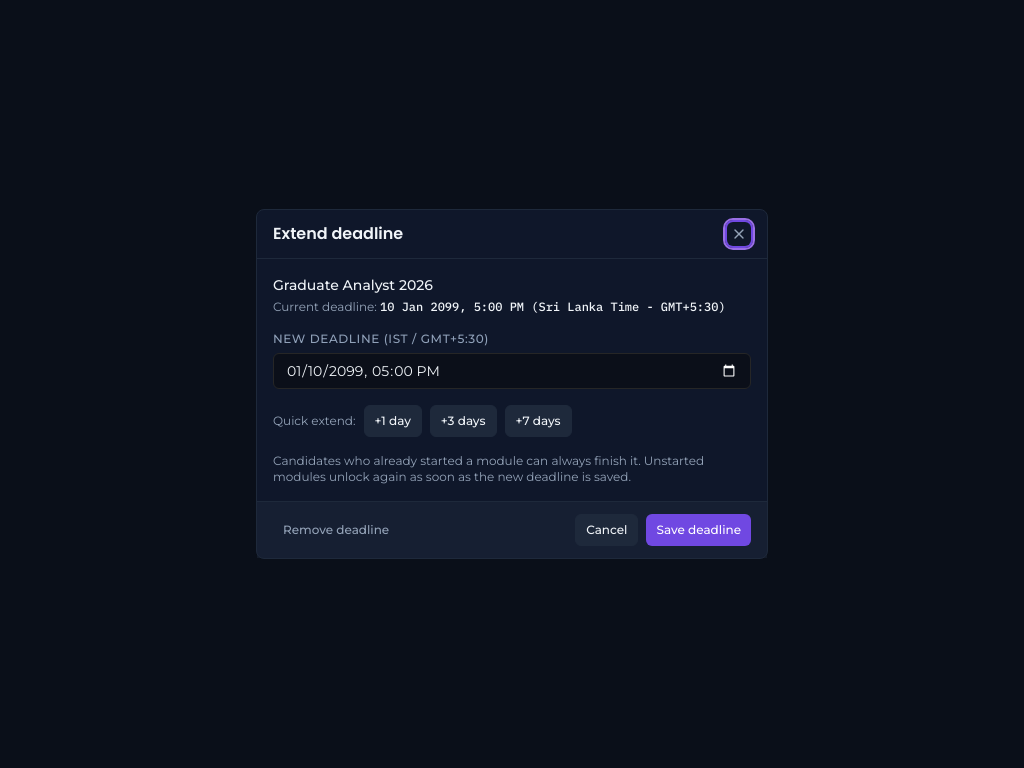
ExtendDeadlineModal › surfaces server errors and keeps the dialog usable
Click the button "+3 days".
click(463, 421)  # box [430,405,497,437]
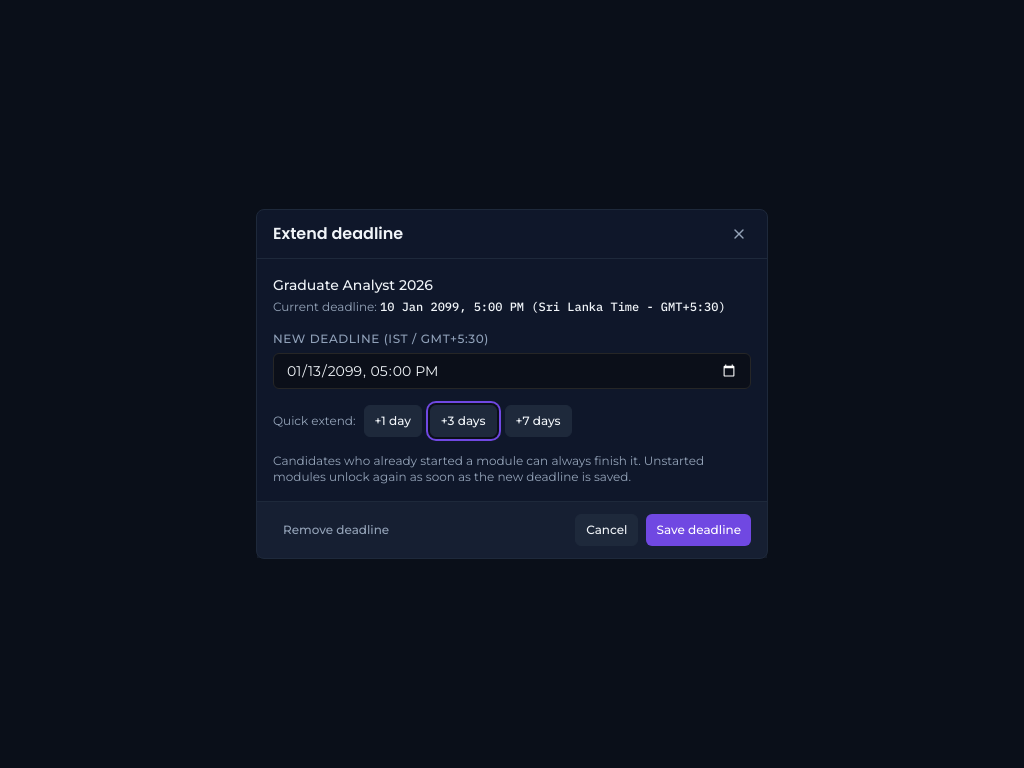
Check: the field labelled "New deadline (IST / GMT+5:30)" holds "2099-01-13T17:00", box [273,353,751,389]
Click the button "Save deadline".
click(699, 530)  # box [646,514,751,546]
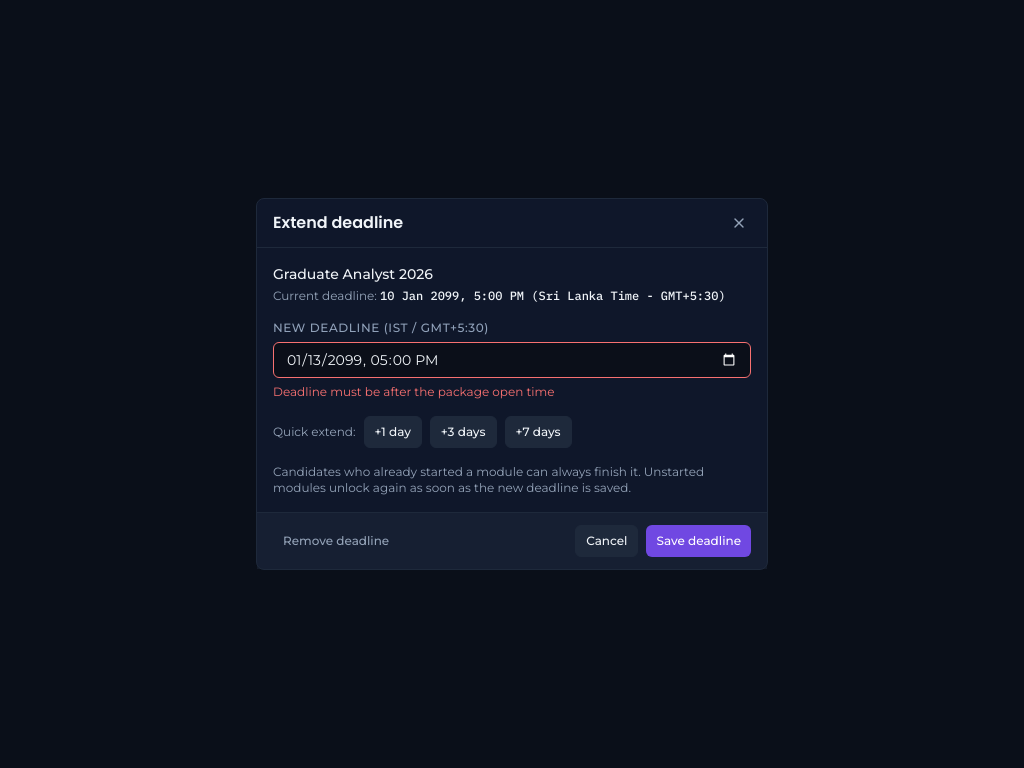
Check: the button "Save deadline" is enabled, box [646,525,751,557]
Check: the text "Deadline must be after the package open time" is shown, box [273,384,555,399]
